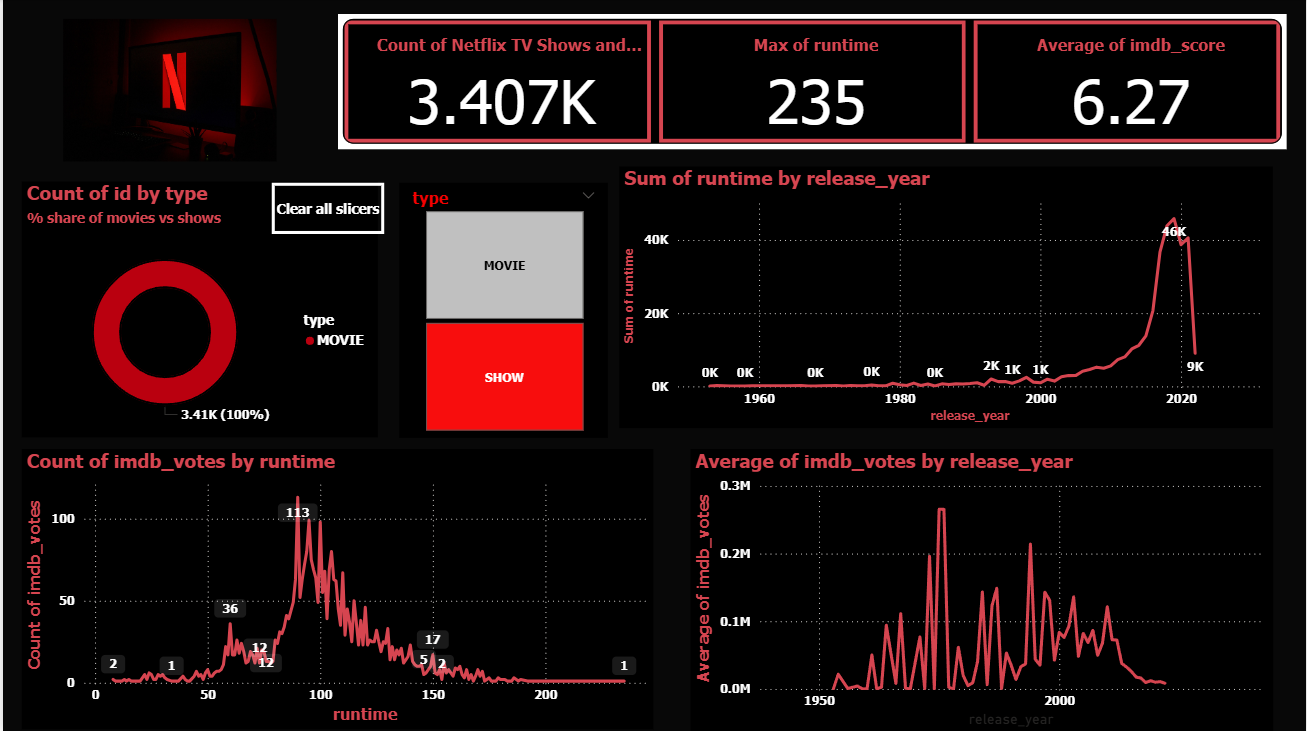

The page's visual inventory and layout, read from the dashboard file:
{"tool":"powerbi","page":{"name":"Page 1","canvas":[1280,720],"ordinal":0},"visuals":[{"type":"cardVisual","fields":{"Data":["Count(Netflix TV Shows and Movies)","Max(Netflix TV Shows and Movies.runtime)","Avg(Netflix TV Shows and Movies.imdb_score)"]},"box":[328.8,14.7,931.3,132.5],"z":0},{"type":"lineChart","fields":{"Category":["Netflix TV Shows and Movies.release_year"],"Y":["Sum(Netflix TV Shows and Movies.runtime)"]},"box":[604.9,164.4,641.7,256.4],"z":1000},{"type":"lineChart","fields":{"Category":["Netflix TV Shows and Movies.runtime"],"Y":["Count(Netflix TV Shows and Movies.imdb_votes)"]},"box":[18.4,441.7,619.6,274.8],"z":2000},{"type":"lineChart","fields":{"Category":["Netflix TV Shows and Movies.release_year"],"Y":["Avg(Netflix TV Shows and Movies.imdb_votes)"]},"box":[674.9,441.7,571.8,278.5],"z":3000},{"type":"donutChart","fields":{"Category":["Netflix TV Shows and Movies.type"],"Y":["CountNonNull(Netflix TV Shows and Movies.id)"]},"box":[18.4,179.1,349.7,251.5],"z":4000},{"type":"slicer","fields":{"Values":["Netflix TV Shows and Movies.type"]},"box":[389,180.4,204.9,250.3],"z":5000},{"type":"image","box":[8.6,14.7,310.4,149.7],"z":6000},{"type":"actionButton","box":[263.8,180.4,110.4,50.3],"z":7000}]}

Visuals, with their boxes in screenshot pixels (x1, y1, x2, y2), scaled from the page's 1280x720 canvas onto the 1307x731 screenshot:
cardVisual - Count(Netflix TV Shows and Movies) x Max(Netflix TV Shows and Movies.runtime): <bbox>336, 15, 1287, 149</bbox>
lineChart - Netflix TV Shows and Movies.release_year x Sum(Netflix TV Shows and Movies.runtime): <bbox>618, 167, 1273, 427</bbox>
lineChart - Netflix TV Shows and Movies.runtime x Count(Netflix TV Shows and Movies.imdb_votes): <bbox>19, 448, 651, 727</bbox>
lineChart - Netflix TV Shows and Movies.release_year x Avg(Netflix TV Shows and Movies.imdb_votes): <bbox>689, 448, 1273, 730</bbox>
donutChart - Netflix TV Shows and Movies.type x CountNonNull(Netflix TV Shows and Movies.id): <bbox>19, 182, 376, 437</bbox>
slicer - Netflix TV Shows and Movies.type: <bbox>397, 183, 606, 437</bbox>
image: <bbox>9, 15, 326, 167</bbox>
actionButton: <bbox>269, 183, 382, 234</bbox>
